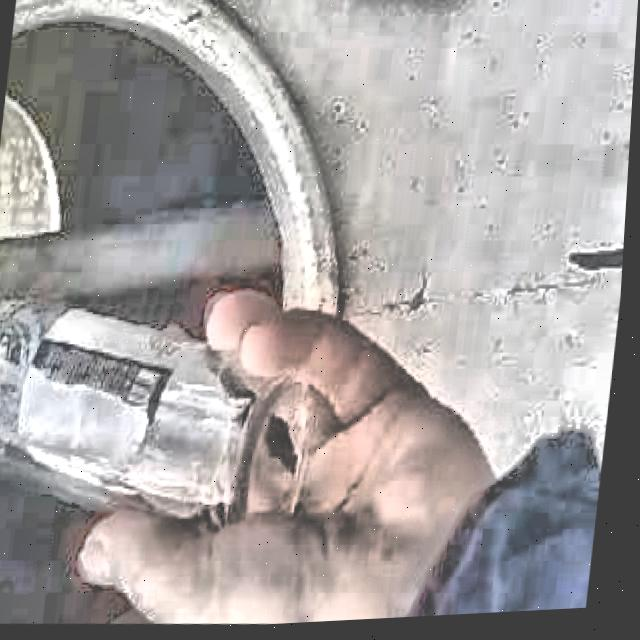glass: (0, 301, 338, 525)
